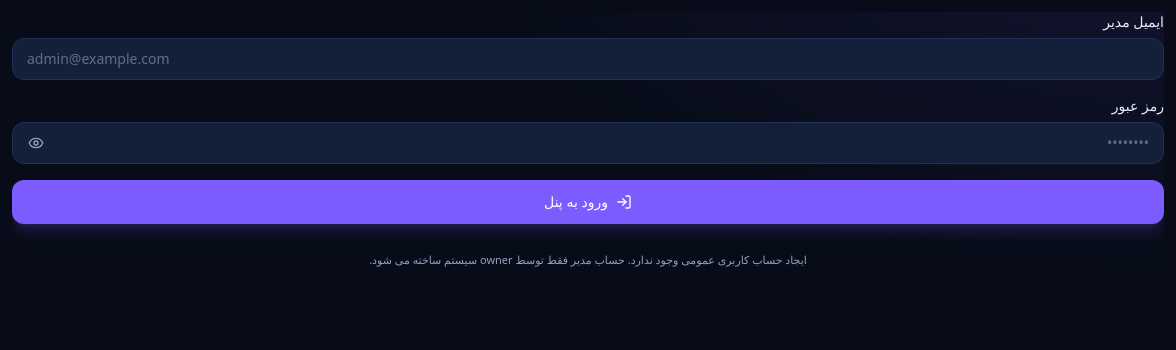
Test: LoginForm › shows the server error message for bad credentials
Type "admin@netnova.ir" into the field labelled "ایمیل مدیر" at (588, 59), box [12,38,1164,80]
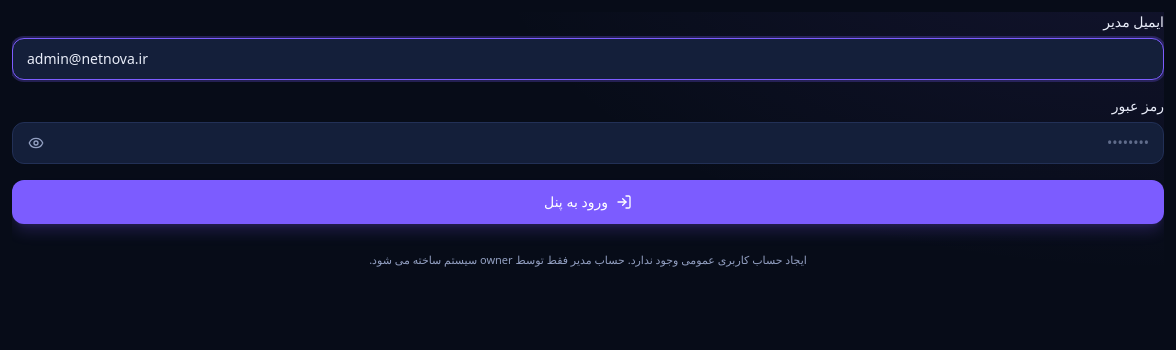
Type "wrong-password" into the password field labelled "رمز عبور" at (588, 143), box [12,122,1164,164]
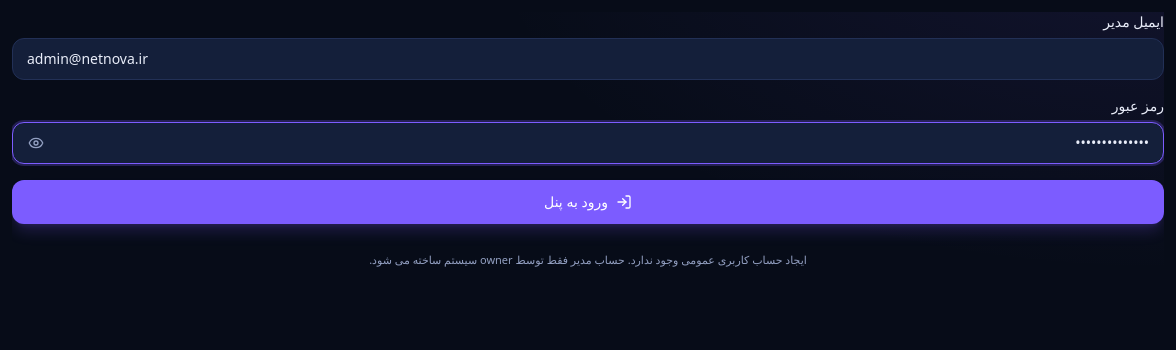
Click the button "ورود به پنل" at (588, 202), box [12,180,1164,224]
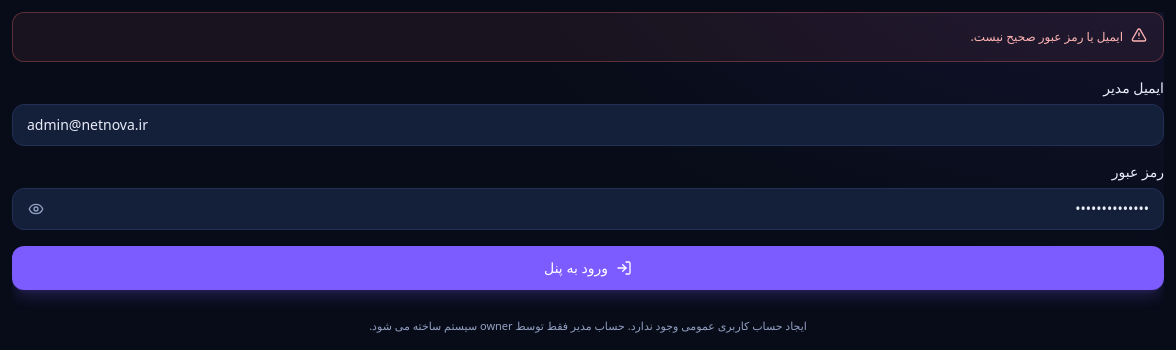
Now the message reads "ایمیل یا رمز عبور صحیح نیست.", box [970,28,1123,45]
